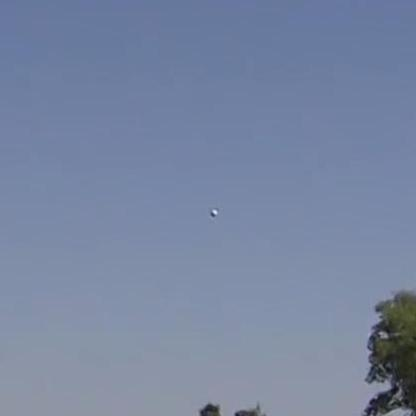golfball: (207, 208, 215, 215)
